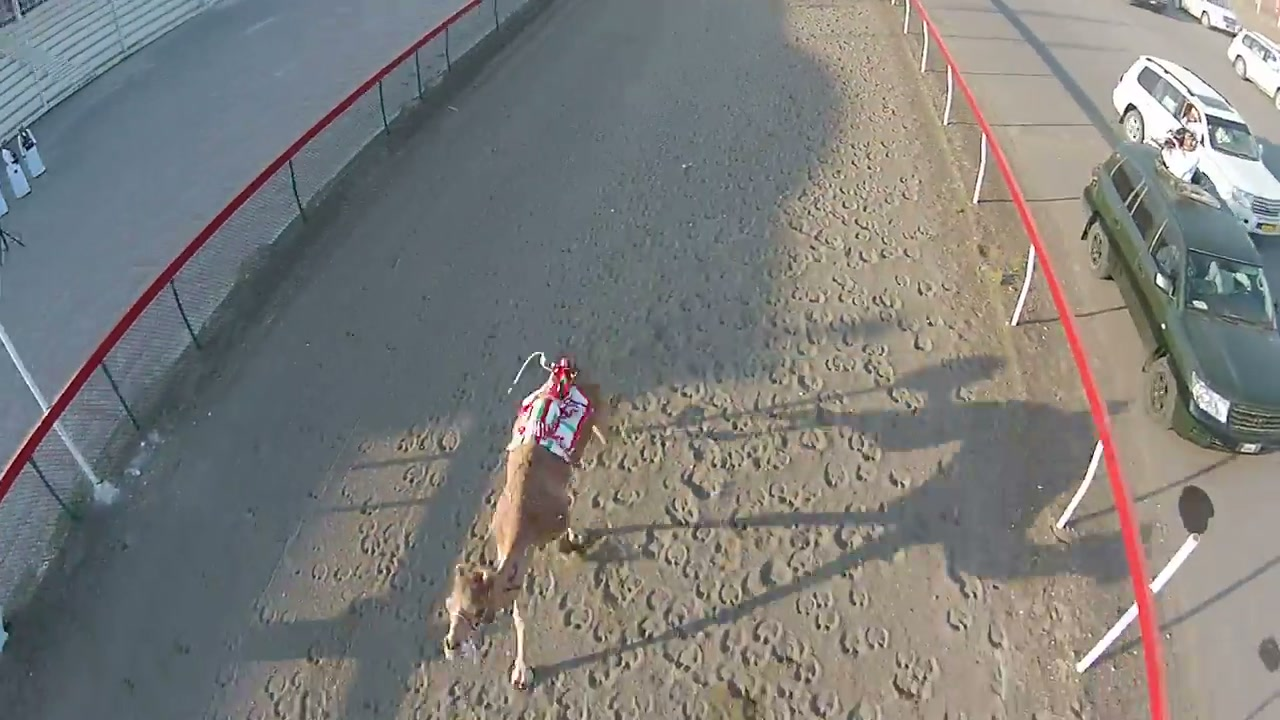animal_foot_print: (281, 0, 1100, 719), (557, 528, 591, 554), (509, 662, 533, 691)
